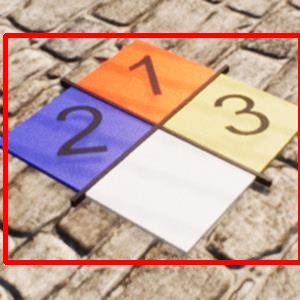nfpa: (5, 35, 300, 262)
